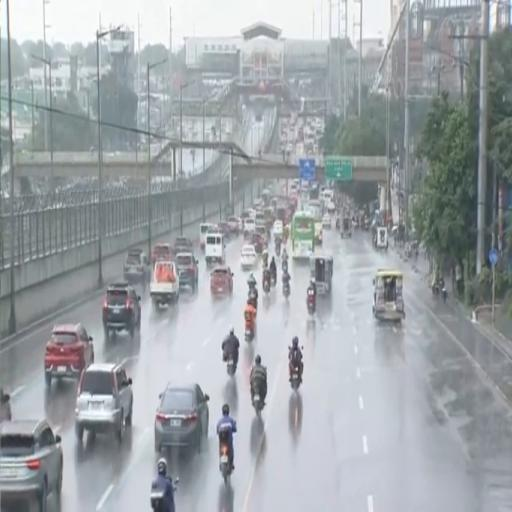bus: (291, 212, 315, 259), (306, 200, 323, 244)
car: (0, 420, 63, 510), (75, 363, 133, 442), (155, 383, 209, 453), (44, 324, 94, 387), (103, 282, 141, 338), (175, 250, 198, 291), (124, 249, 151, 282), (210, 266, 233, 295), (150, 243, 172, 264), (241, 245, 257, 268), (173, 236, 193, 254), (249, 233, 266, 254), (0, 391, 11, 423), (227, 216, 239, 234), (218, 221, 230, 239), (244, 217, 255, 234), (273, 220, 283, 236), (255, 227, 267, 239), (322, 214, 331, 228), (327, 200, 335, 213)
motorcycle: (219, 430, 232, 485), (150, 483, 166, 511), (289, 360, 301, 390), (252, 386, 263, 415), (245, 312, 254, 341), (290, 364, 300, 390), (307, 290, 316, 316), (248, 288, 257, 310), (227, 355, 236, 376), (432, 283, 440, 299), (283, 280, 290, 298), (275, 238, 281, 257), (263, 279, 270, 293), (442, 284, 447, 302), (282, 260, 288, 273), (271, 272, 276, 286), (336, 218, 340, 229)
truck: (150, 261, 179, 306)
